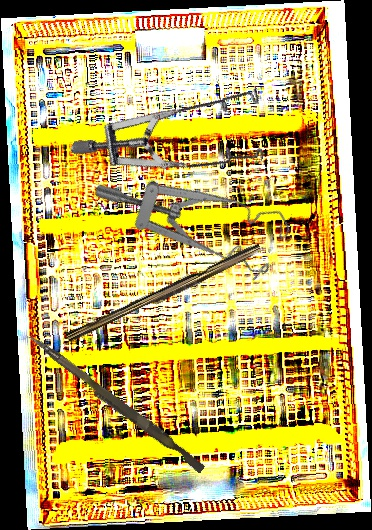Pusher: (23, 333, 209, 474)
Scalpel Handle: (65, 240, 264, 348)
Speculum: (69, 26, 290, 229), (89, 109, 304, 314)
